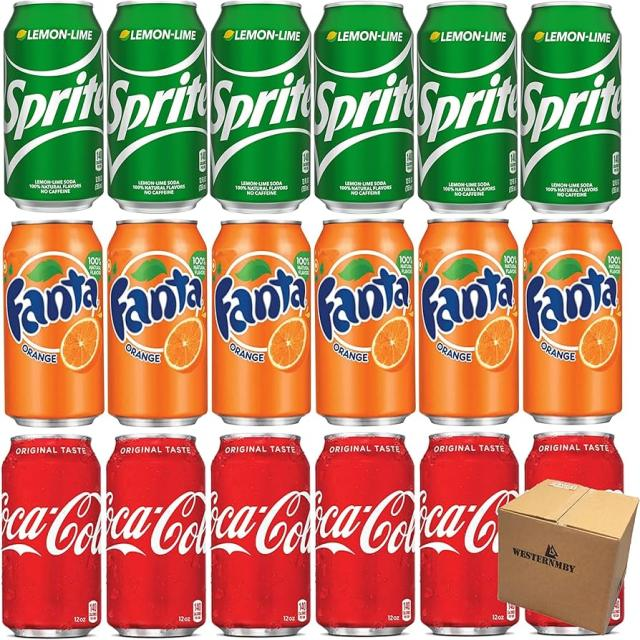cocacola: (200, 432, 313, 640), (0, 440, 106, 632), (104, 430, 204, 630), (311, 444, 413, 640), (415, 436, 507, 634)
sprite: (304, 0, 413, 225), (531, 2, 629, 226), (206, 24, 317, 216), (5, 0, 106, 211), (414, 6, 518, 206), (106, 4, 204, 213)
